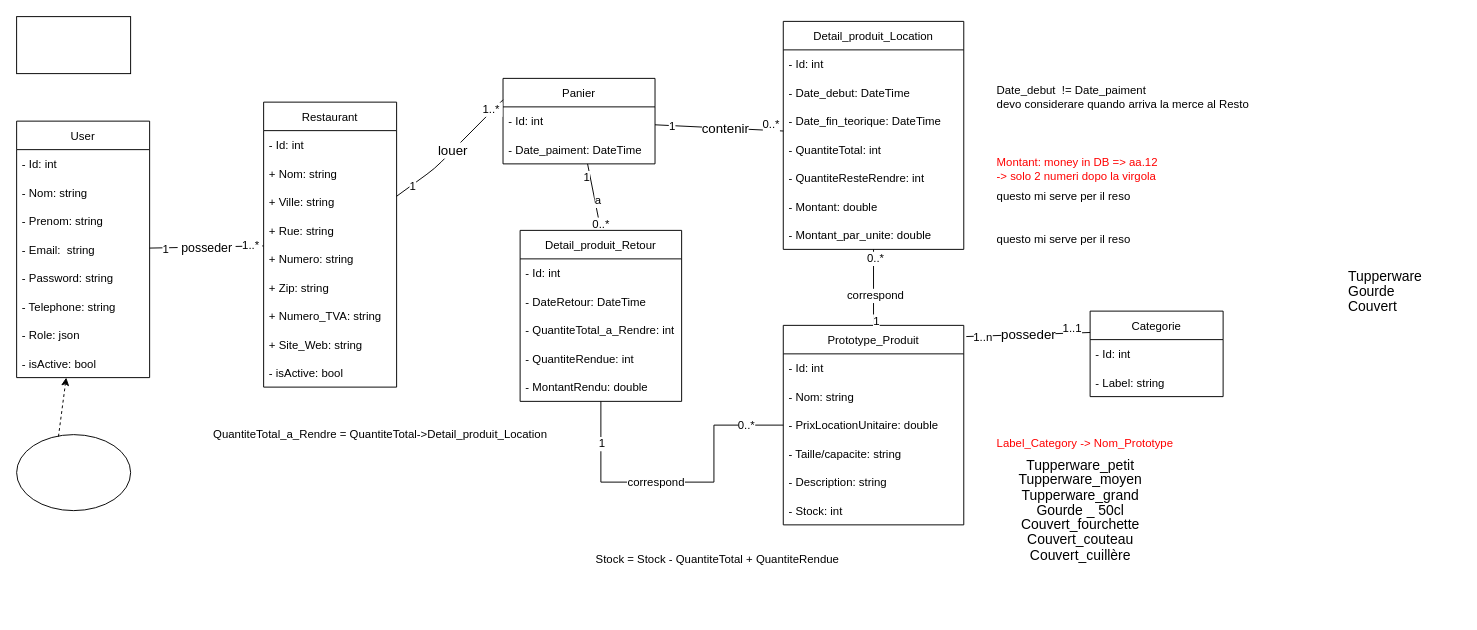
The diagram is 1477 pixels wide and 630 high, and some of its shapes have lost their labels. The centre of each missing label's shape, as x and y in pixels:
"Login" belongs at point 73,472.
"UML" belongs at point 73,45.
